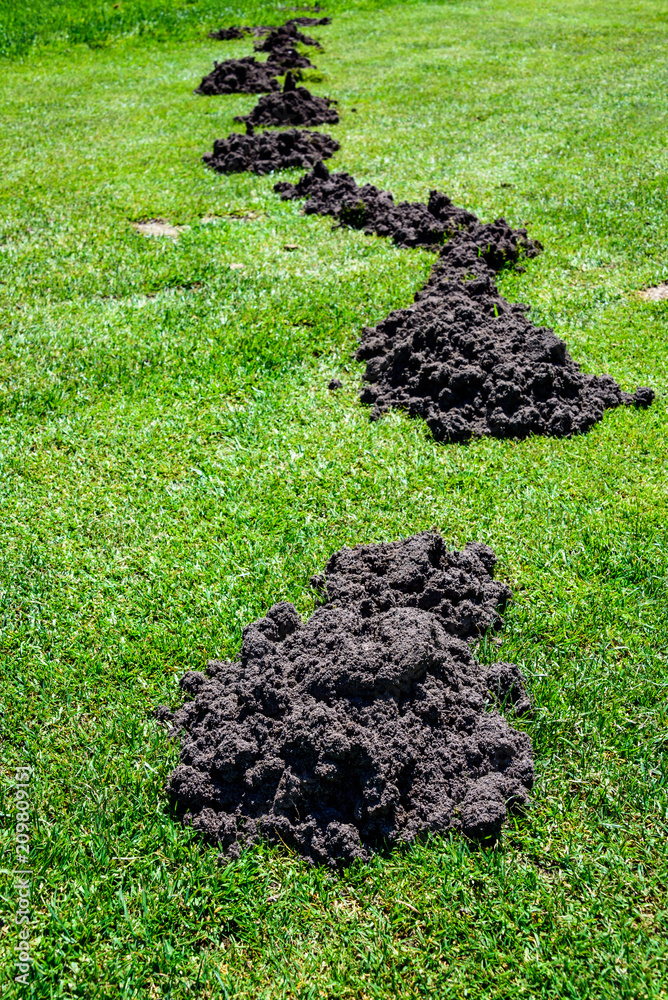dirt: (167, 547, 537, 883), (203, 19, 468, 232), (354, 233, 575, 438)
grass: (1, 3, 170, 997), (169, 832, 659, 991), (179, 235, 346, 639), (342, 1, 663, 206), (510, 430, 667, 826), (514, 215, 659, 360), (354, 440, 505, 537)
